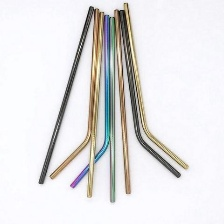drinking_straw: (119, 0, 193, 173), (30, 3, 97, 187), (105, 14, 119, 207)
